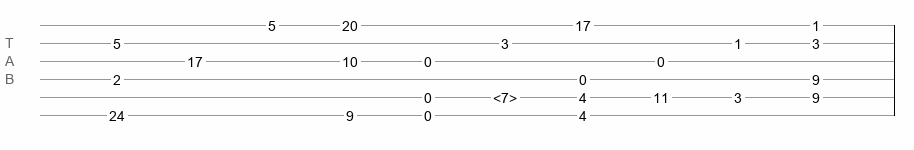0: (424, 54, 432, 64), (424, 90, 432, 100), (424, 108, 432, 118), (579, 72, 587, 82), (657, 54, 665, 64)
1: (734, 36, 742, 46), (812, 18, 820, 28)
10: (342, 54, 358, 64)
11: (653, 90, 669, 100)
17: (187, 54, 203, 64), (575, 18, 591, 28)
2: (113, 72, 121, 82)
20: (342, 18, 358, 28)
24: (109, 108, 125, 118)
3: (501, 36, 509, 46), (734, 90, 742, 100), (812, 36, 820, 46)
4: (579, 108, 587, 118), (579, 90, 587, 100)
5: (113, 36, 121, 46), (268, 18, 276, 28)
9: (346, 108, 354, 118), (812, 72, 820, 82), (812, 90, 820, 100)
harmonic: (493, 90, 517, 100)
